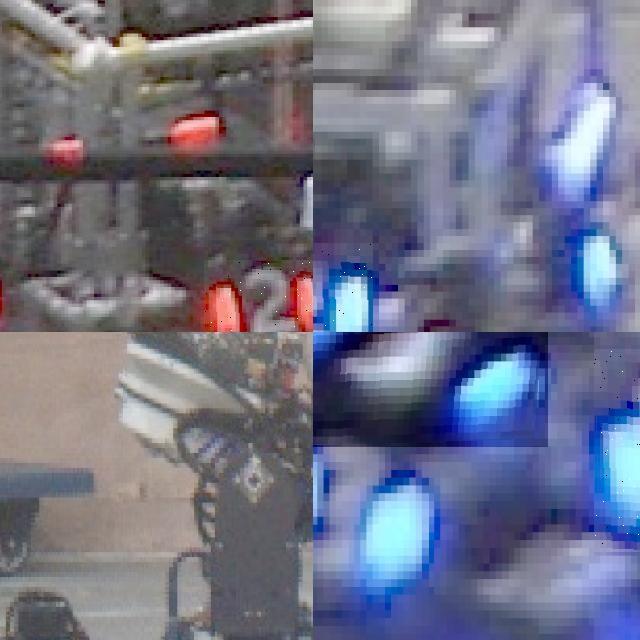B2: (313, 242, 372, 332)
B3: (313, 332, 548, 446), (313, 419, 440, 598), (594, 349, 640, 552)
R2: (204, 260, 313, 332)
